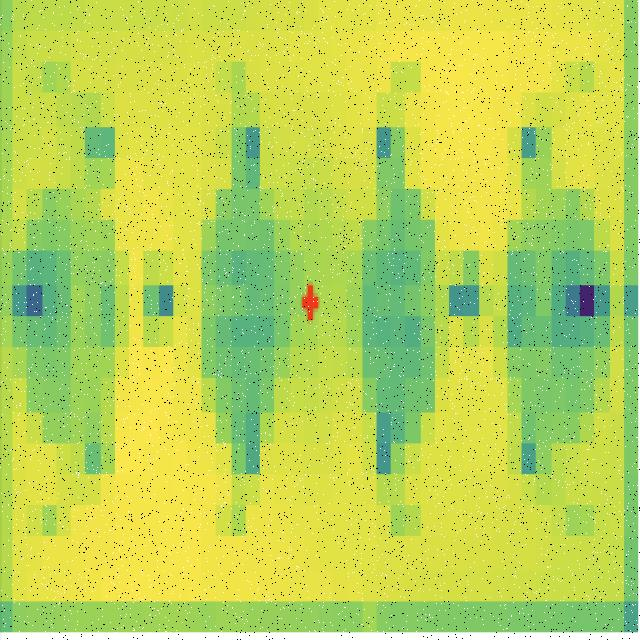Concrete: (345, 81, 457, 482)
Glass: (185, 99, 304, 477)
Metal: (486, 87, 614, 475)
Wood: (12, 127, 133, 487)
